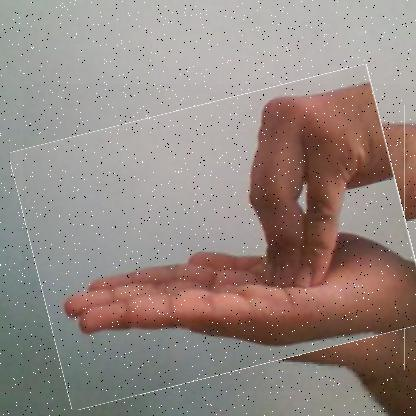Z: (22, 84, 416, 392)
